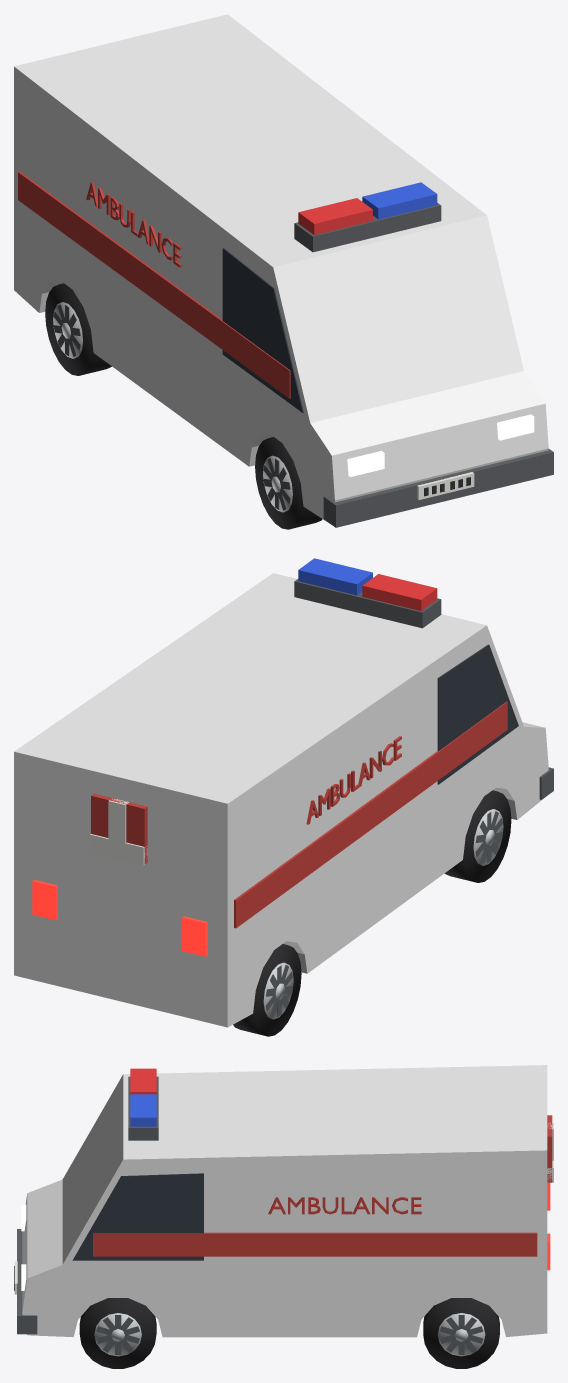
Rendered from ambulance.gltf.
The picture shows the model from 3 angles, top to bottom: view 1: azimuth 30°, elevation 25°; view 2: azimuth 150°, elevation 25°; view 3: azimuth 270°, elevation 25°; orthographic projection. The views are drawn at different scales.
Visible parts, largest first — view 1: ambulance, Wheel1, Wheel3; view 2: ambulance, Wheel3, Wheel1; view 3: ambulance, Wheel0, Wheel2.
Boxes of the visible parts, left/top/right/bottom form: ambulance: left=14, top=14, right=553, bottom=527; Wheel1: left=255, top=437, right=322, bottom=529; Wheel3: left=45, top=283, right=111, bottom=375; ambulance: left=14, top=558, right=553, bottom=1027; Wheel3: left=233, top=944, right=301, bottom=1036; Wheel1: left=444, top=790, right=511, bottom=882; ambulance: left=14, top=1065, right=553, bottom=1337; Wheel0: left=79, top=1298, right=156, bottom=1368; Wheel2: left=423, top=1298, right=499, bottom=1368.
Size of the model in its own units: 0.416 by 0.5112 by 1.07.
Materials: 13 (1 with a texture image).
